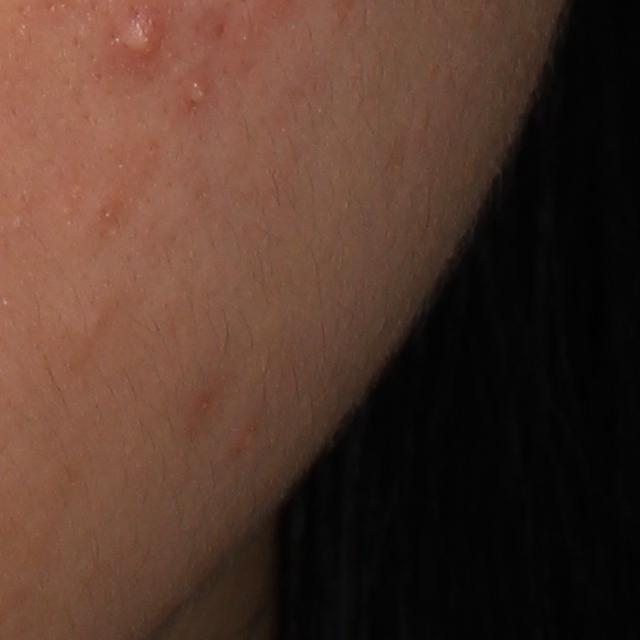pustule: (116, 11, 164, 63), (181, 72, 209, 108)
